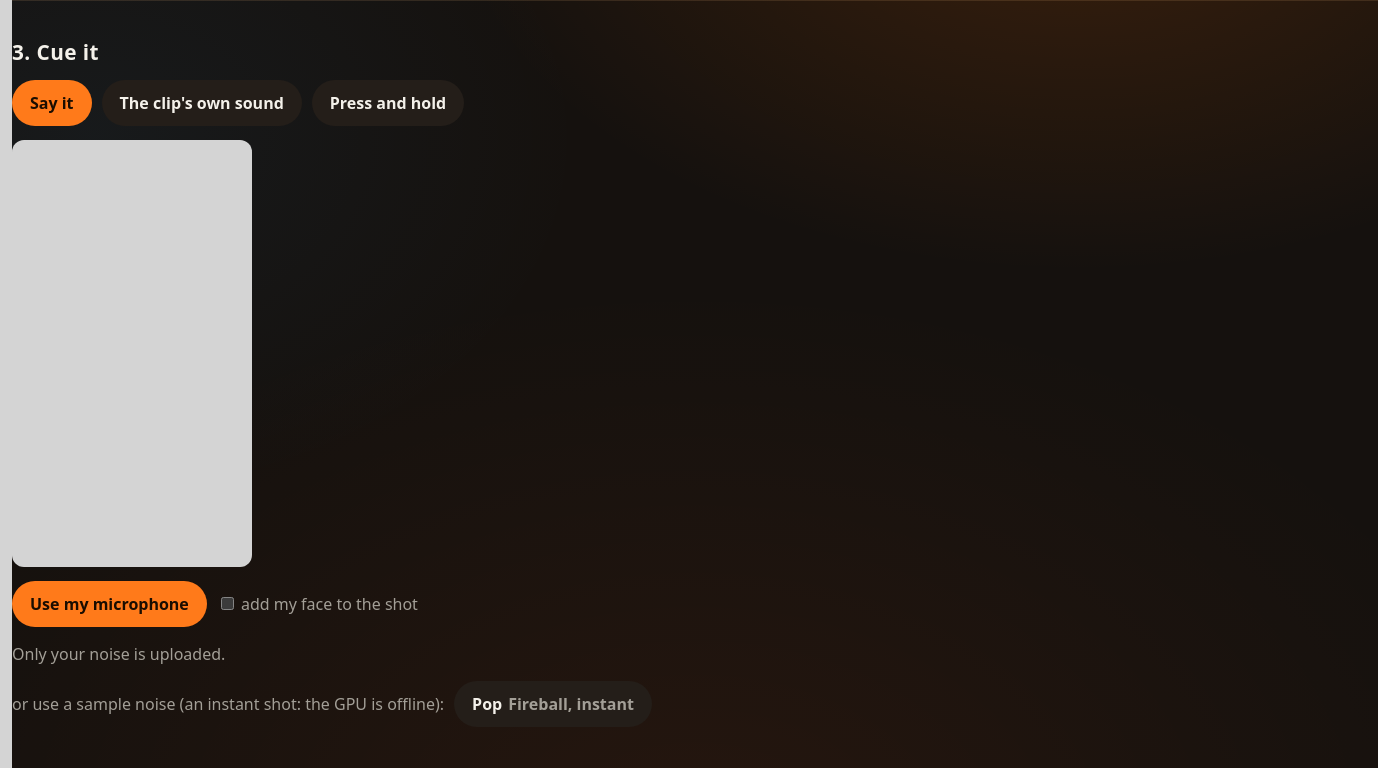
Test: Performer microphone lifecycle › cleans up PCM if playback cannot start, without submitting a partial take
Click the button "Use my microphone": [109, 604] box [12,581,207,627]
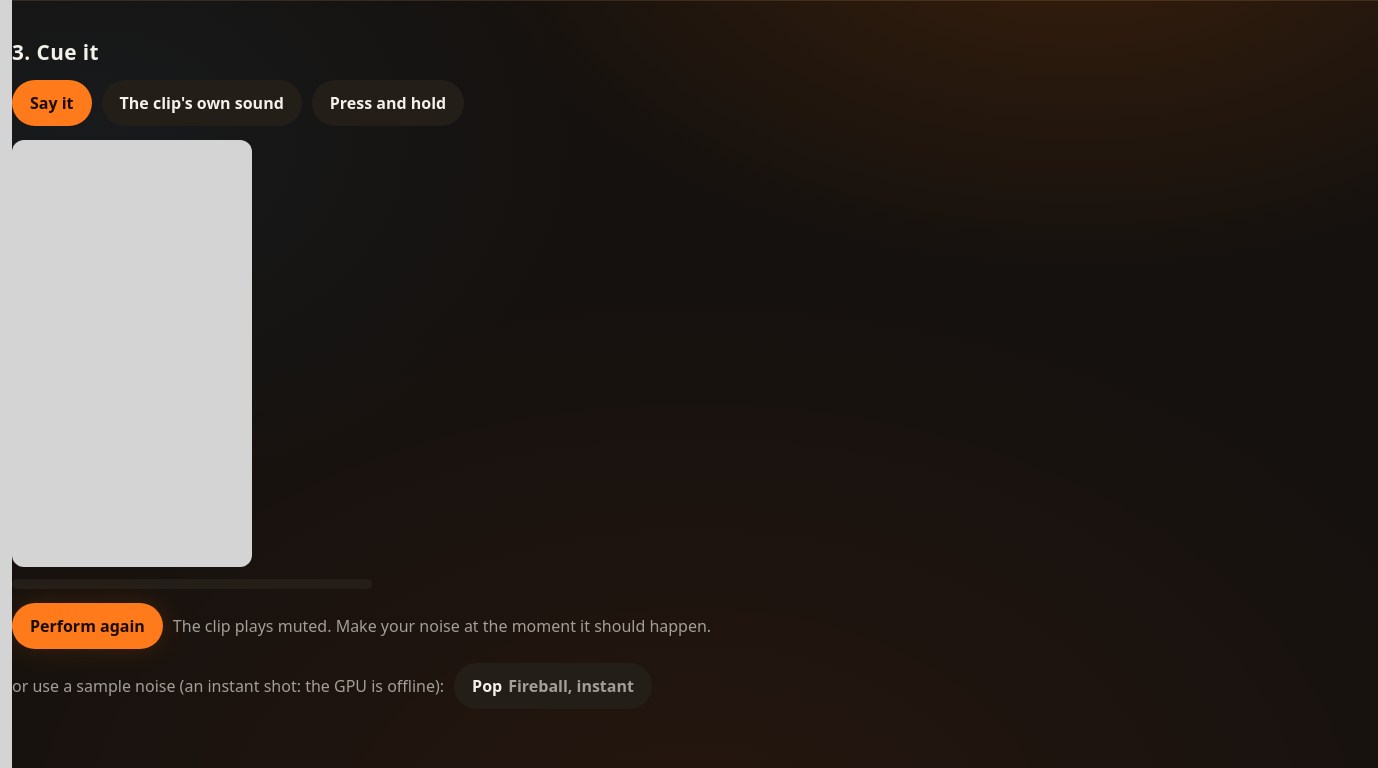
Click the button "Perform again": [87, 626] box [12,603,163,649]
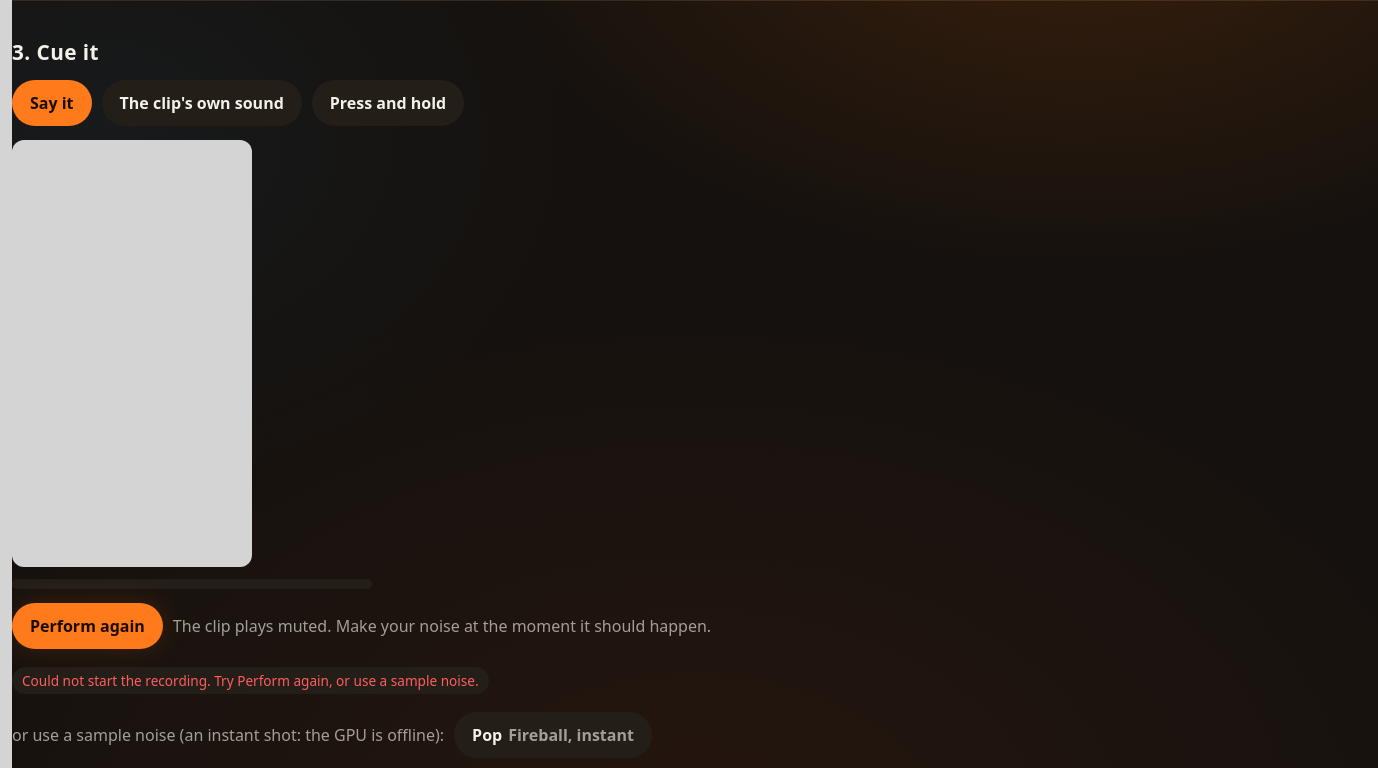
Check: the button "Perform again" is enabled, box [12,603,163,649]
Check: the text with class "bad" shows "Could not start", box [22,671,479,690]
